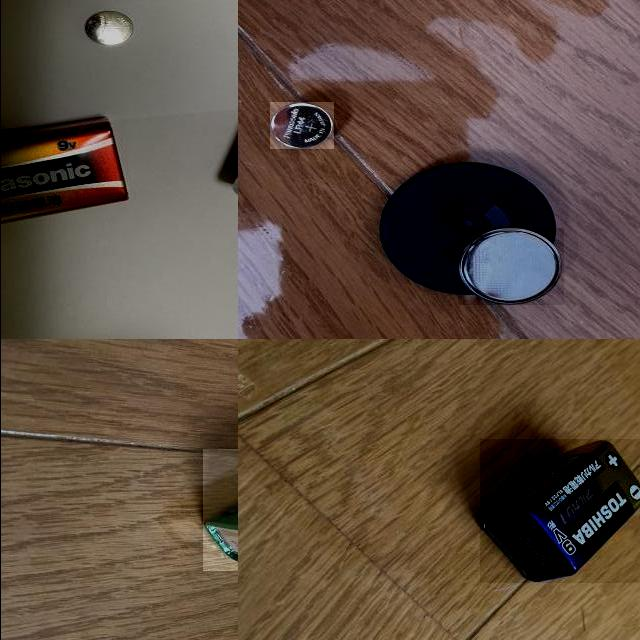9V: (479, 439, 640, 582), (0, 115, 129, 236)
